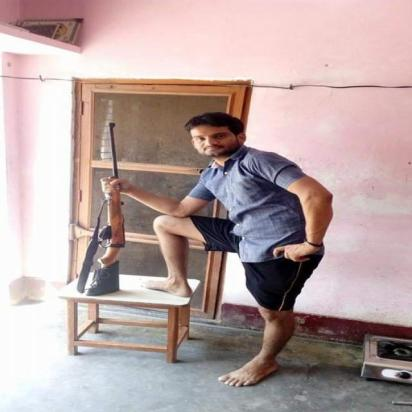Gun: (84, 121, 128, 298)
